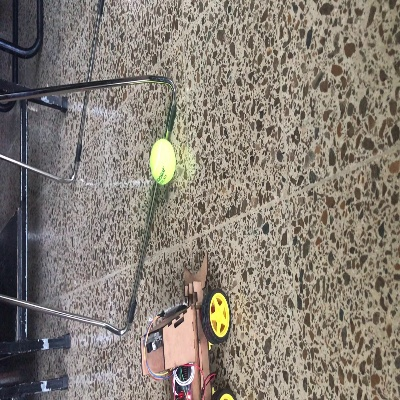Ball: (149, 138, 176, 185)
Robot: (139, 251, 235, 399)
